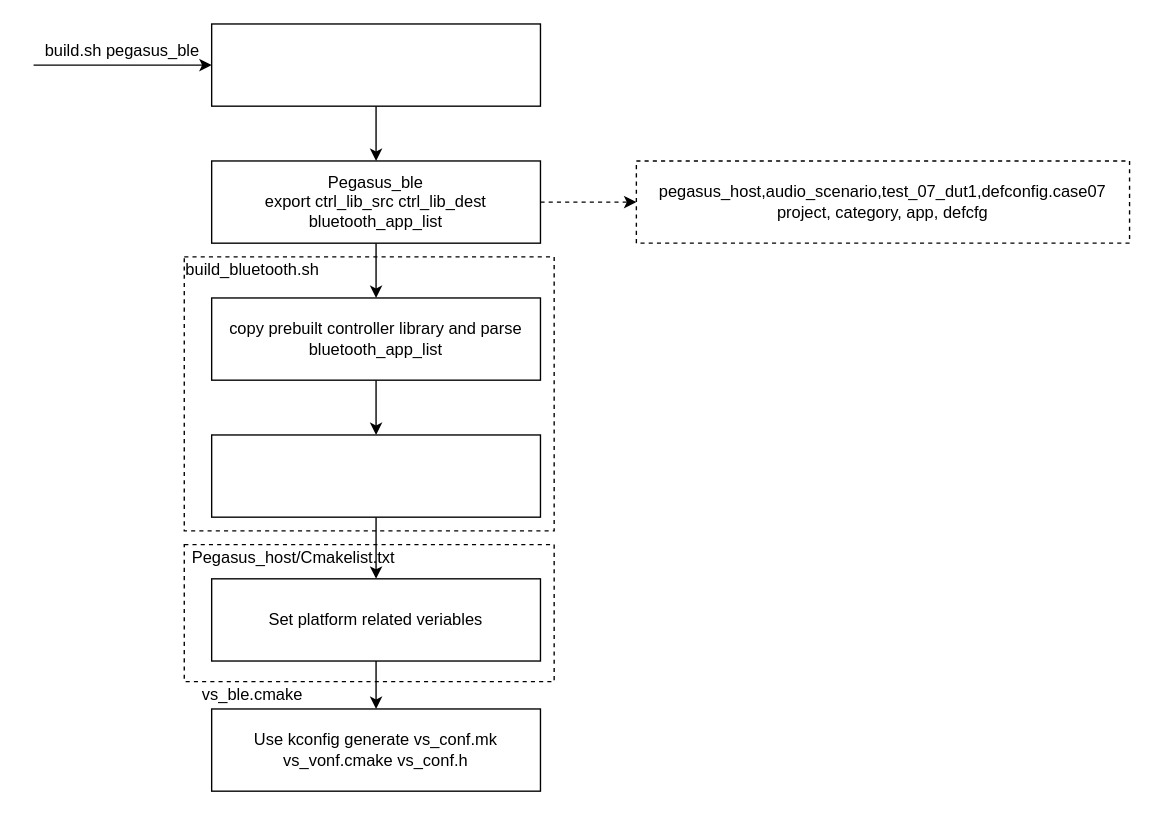
This 1154x815 diagram has some shape labels left out. Here are the shapes that lost their labels. From the top down, the centre of each, then its label:
[375,64]: Ospery export modules="ble_v3 bluetooth"
[375,475]: loop bluetooth_app_list to build image
